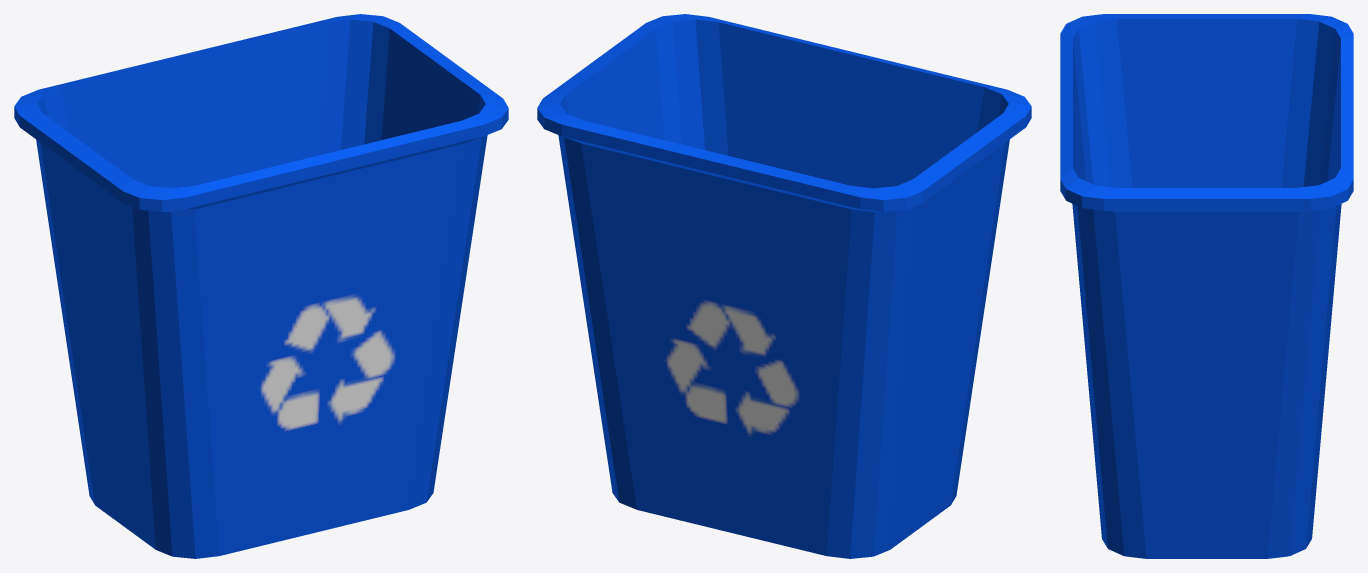
The model's file is Trashcan.glb.
3 views of the same model, side by side, from view 1: azimuth 30°, elevation 25°; view 2: azimuth 150°, elevation 25°; view 3: azimuth 270°, elevation 25° (orthographic).
Visible parts, largest first — view 1: Trash-col; view 2: Trash-col; view 3: Trash-col.
Boxes of the visible parts, x1,y1,x2,y2 form: Trash-col: (14, 14, 508, 558); Trash-col: (537, 14, 1031, 558); Trash-col: (1060, 14, 1353, 558).
Size of the model in its own units: 0.9091 by 0.8926 by 0.6097.
Materials: 1 (1 with a texture image).
